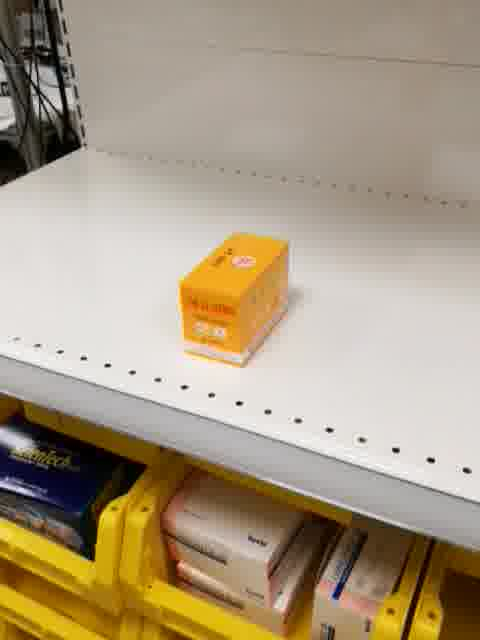jasminetea: (178, 231, 292, 369)
